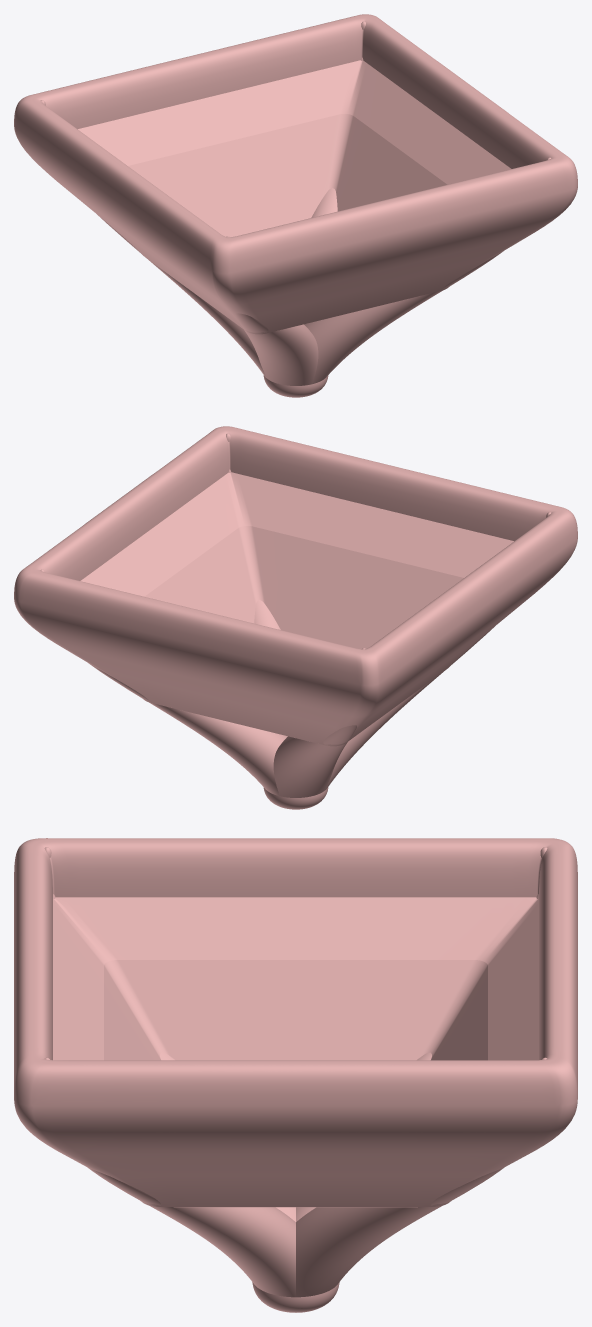
File: PRINCESS.glb
3 renders of one model, top to bottom at view 1: azimuth 30°, elevation 25°; view 2: azimuth 150°, elevation 25°; view 3: azimuth 270°, elevation 25°, orthographic. The views are drawn at different scales.
Visible parts, largest first — view 1: Princess.001; view 2: Princess.001; view 3: Princess.001.
Part boxes in pixels (box(x1,y1,x2,y2)): Princess.001: box(14, 14, 577, 397); Princess.001: box(14, 426, 577, 809); Princess.001: box(14, 838, 577, 1312).
Size of the model in its own units: 5.8 by 4.01 by 5.8.
